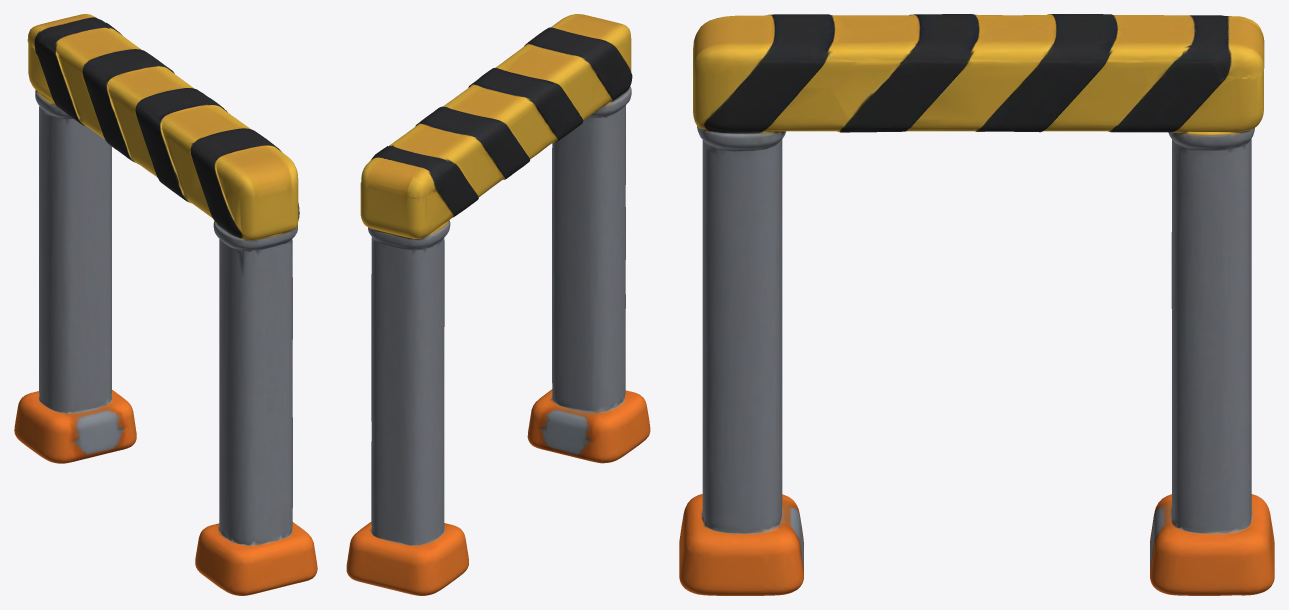
The model's file is scaffold_beam.glb.
The picture shows the model from 3 angles, left to right: view 1: azimuth 30°, elevation 25°; view 2: azimuth 150°, elevation 25°; view 3: azimuth 270°, elevation 25°; orthographic projection. The views are drawn at different scales.
Visible parts, largest first — view 1: tripo_node_202d9354-71be-4f7f-be49-3b7b3bf31df6; view 2: tripo_node_202d9354-71be-4f7f-be49-3b7b3bf31df6; view 3: tripo_node_202d9354-71be-4f7f-be49-3b7b3bf31df6.
Boxes of the visible parts, <box> form: tripo_node_202d9354-71be-4f7f-be49-3b7b3bf31df6: <box>14,14,317,595</box>; tripo_node_202d9354-71be-4f7f-be49-3b7b3bf31df6: <box>346,14,650,595</box>; tripo_node_202d9354-71be-4f7f-be49-3b7b3bf31df6: <box>679,14,1274,595</box>.
Size of the model in its own units: 0.2295 by 0.9788 by 0.9747.
Materials: 1 (1 with a texture image).
